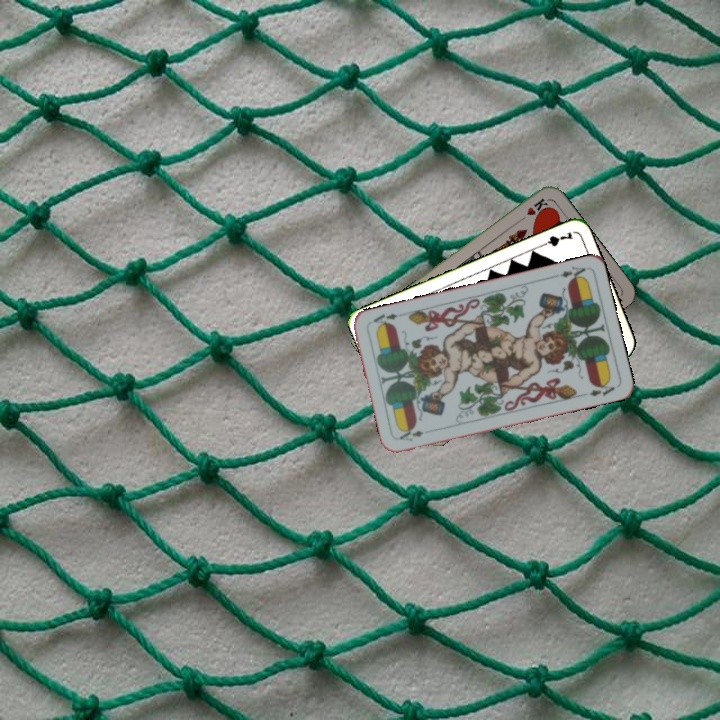EA: (556, 262, 588, 283), (395, 426, 426, 444)
G7: (536, 228, 576, 250)
HK: (514, 194, 551, 225)
